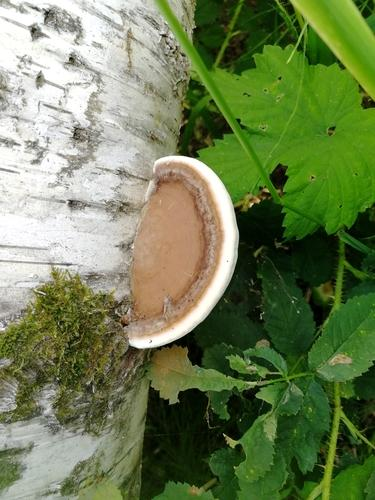Ganoderma - Fruit Body: (121, 158, 241, 348)
